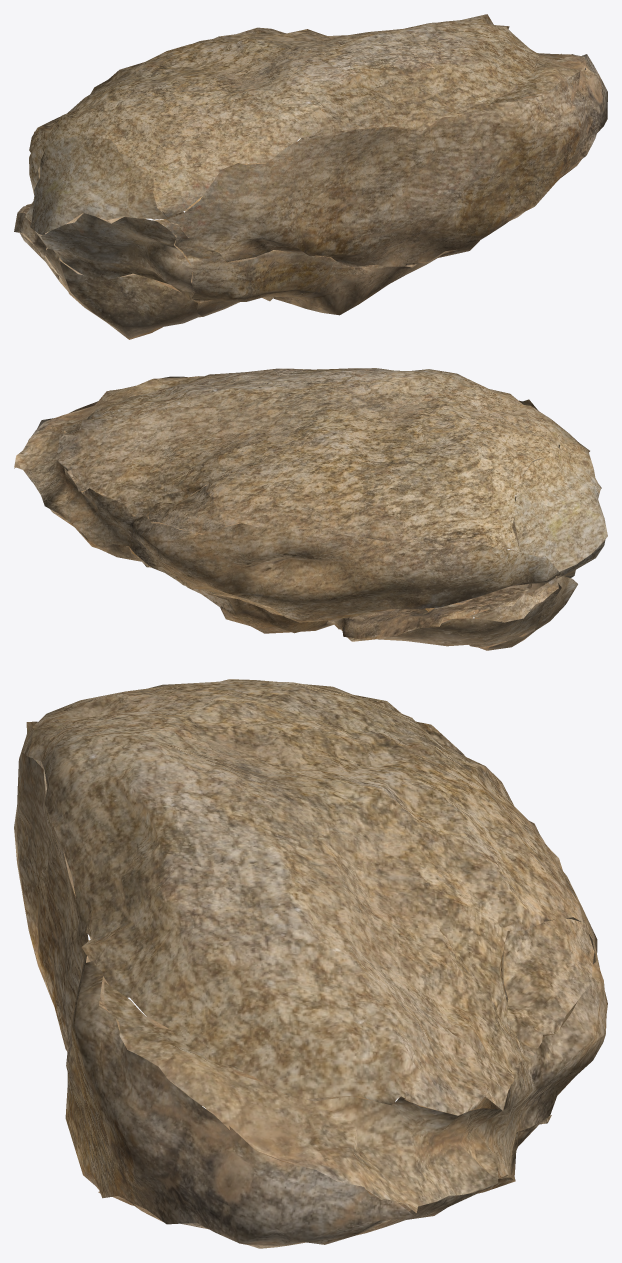
Rendered from namaqualand_boulder_05_0.glb.
3 views of the same model, one above another, from view 1: azimuth 30°, elevation 25°; view 2: azimuth 150°, elevation 25°; view 3: azimuth 270°, elevation 25° (orthographic). The views are drawn at different scales.
Parts seen in each view (by area): view 1: namaqualand_boulder_05; view 2: namaqualand_boulder_05; view 3: namaqualand_boulder_05.
Boxes of the visible parts, x1,y1,x2,y2 form: namaqualand_boulder_05: (14,14,607,339); namaqualand_boulder_05: (14,368,607,650); namaqualand_boulder_05: (14,679,607,1248).
Bounding box in the file's own units: 1.36 × 0.5258 × 0.7409.
Materials: 1 (1 with a texture image).
